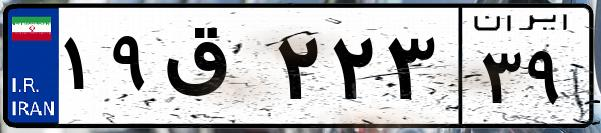1: (57, 26, 110, 100)
2: (270, 28, 330, 110), (330, 28, 385, 110)
3: (385, 28, 445, 110), (475, 38, 525, 113)
9: (525, 38, 570, 115), (110, 28, 158, 98)
ق: (158, 20, 270, 120)
